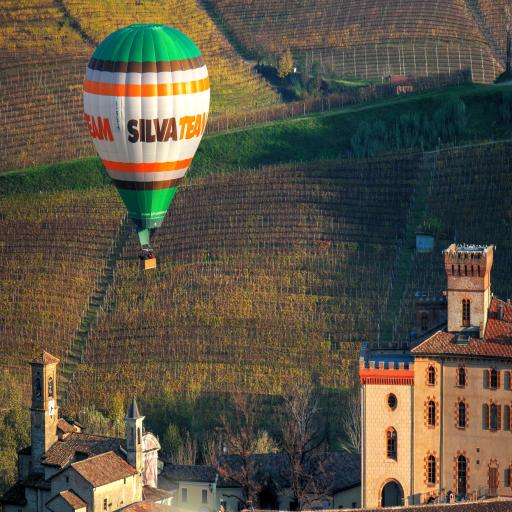hot air ballon: (82, 24, 210, 269)
